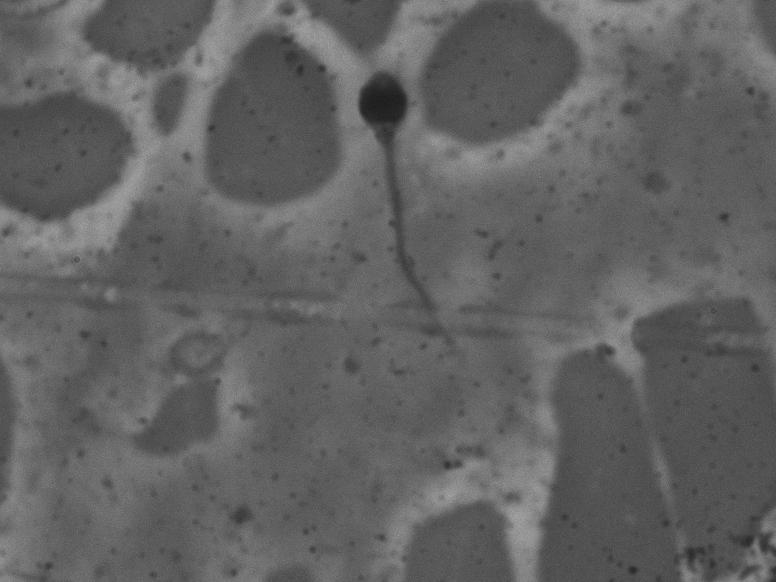Abnormal: (343, 57, 486, 375)
